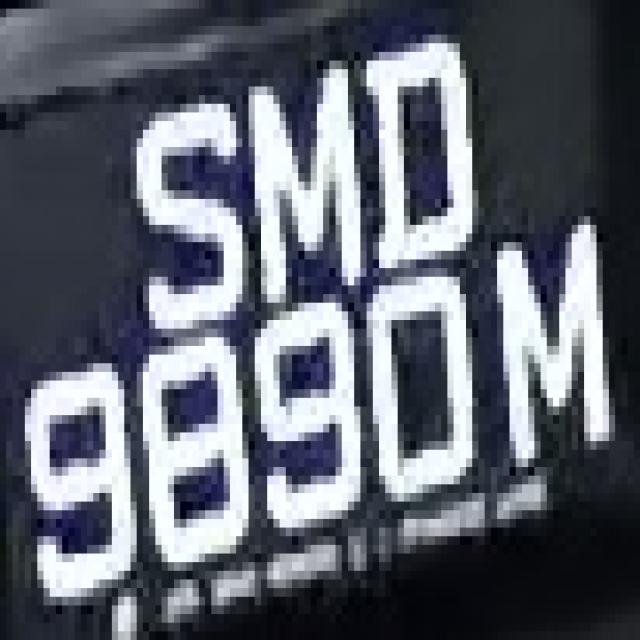0: (348, 250, 485, 528)
8: (130, 312, 261, 580)
9: (13, 346, 149, 631), (236, 285, 367, 545)
D: (367, 17, 472, 294)
M: (484, 233, 628, 484), (218, 69, 354, 294)
S: (106, 104, 242, 346)
